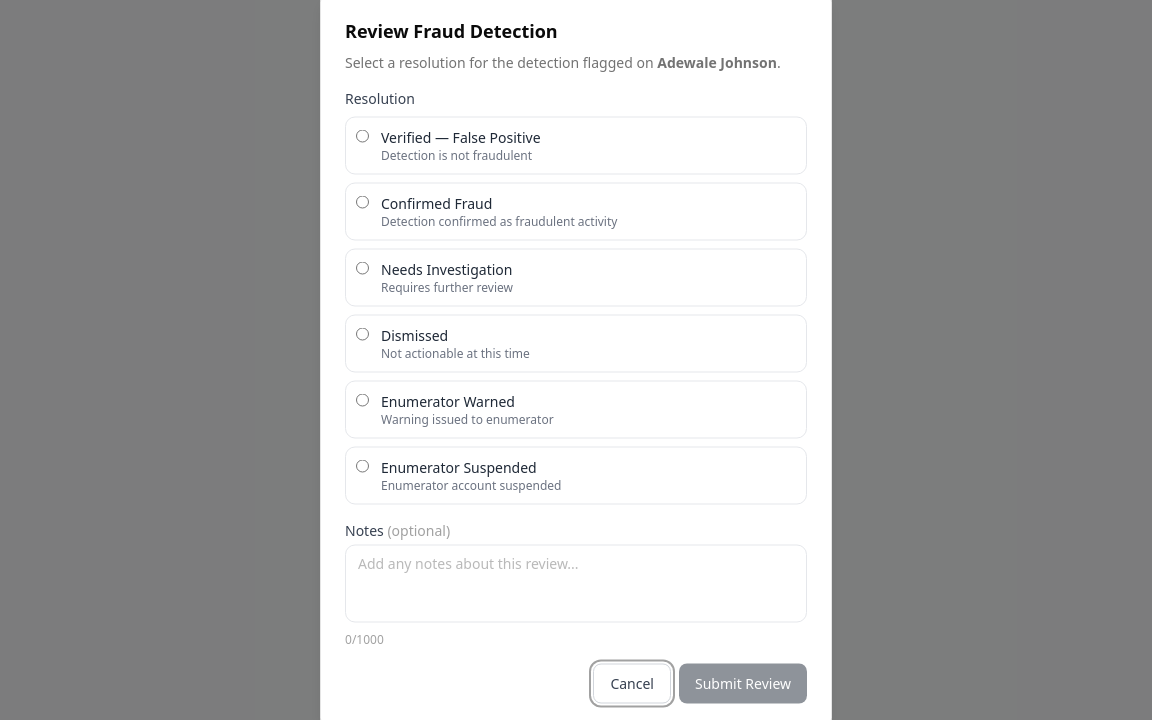
Test case: ReviewDialog › updates character counter when typing notes
Type "Hello" into the text box with placeholder "Add any notes about this review..." at (576, 584), box [345,544,807,622]
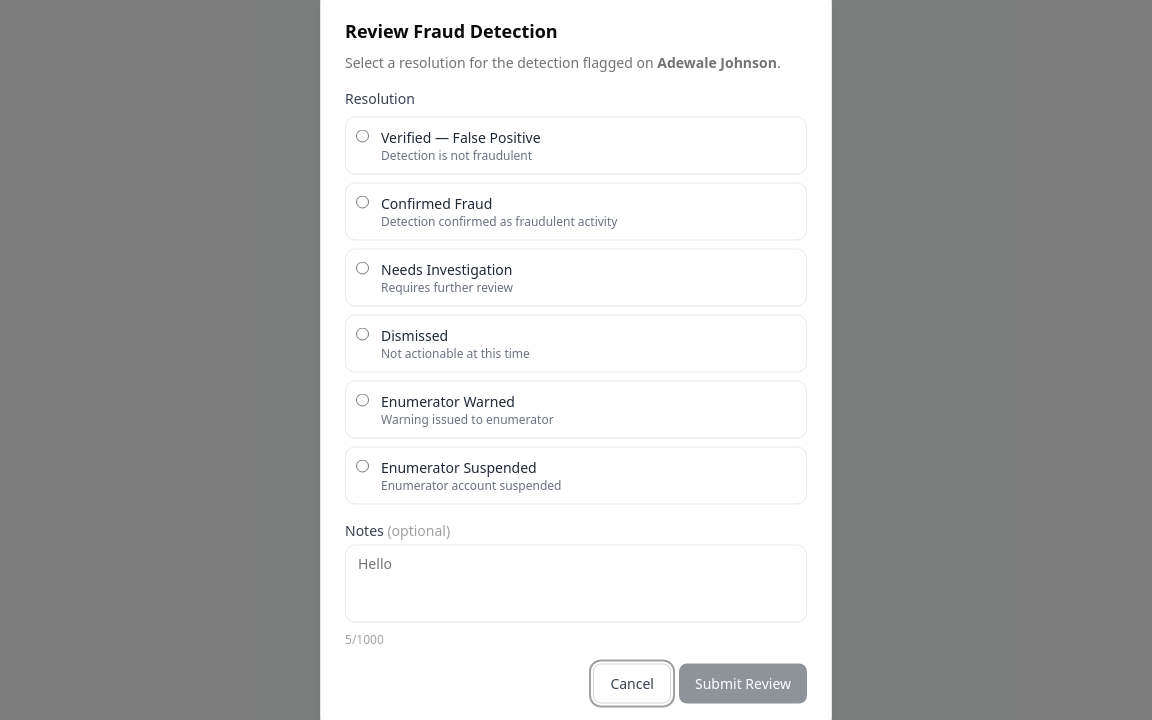
Now the text "5/1000" is shown, box [345,630,384,648]
